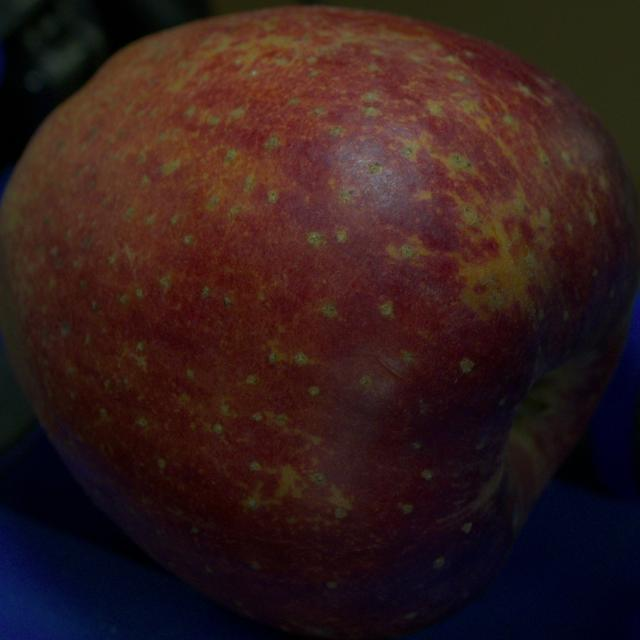apple: (0, 7, 639, 639)
